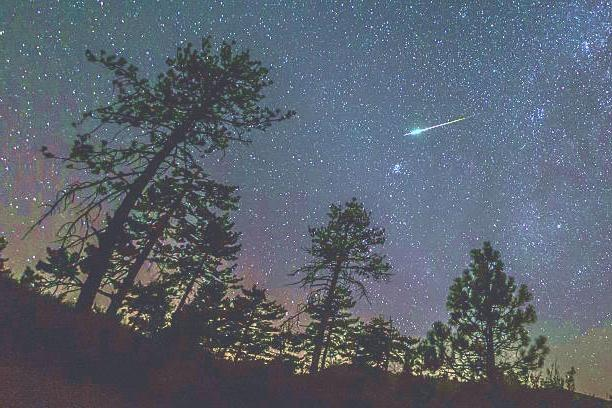meteorite: (393, 109, 480, 142)
